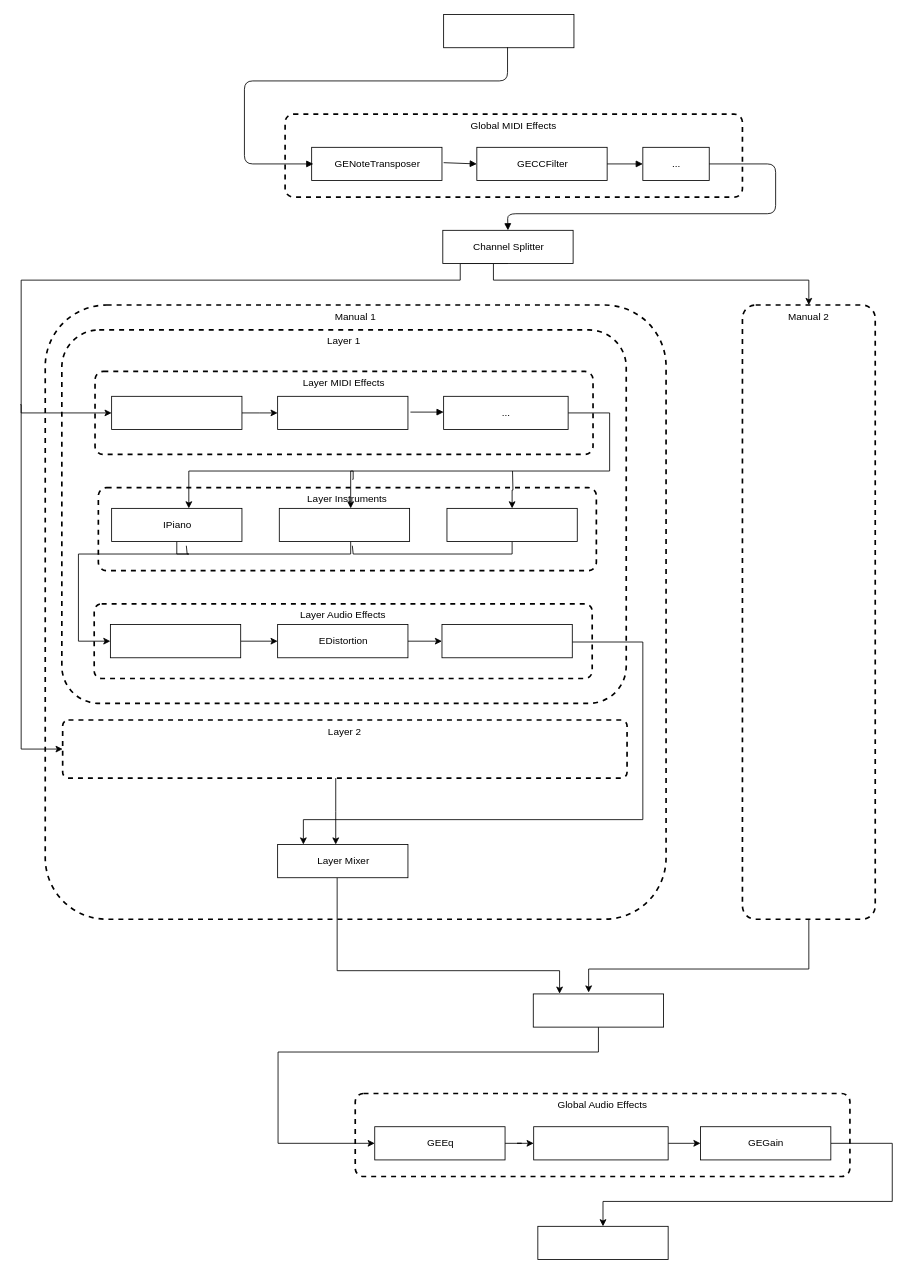
The diagram is 914 pixels wide and 1274 high, and some of its shapes have lost their labels. Each missing label, with the centre of its shape:
"Audio Output" goes at (x=602, y=1242).
"EDelay" goes at (x=506, y=641).
"EGain" goes at (x=175, y=641).
"ENoteTransposer" goes at (x=176, y=412).
"EVelocityScaler" goes at (x=342, y=412).
"GECompressor" goes at (x=600, y=1143).
"IOrgan" goes at (x=511, y=525).
"ISynth" goes at (x=344, y=525).
"Manual mixer" goes at (x=598, y=1010).
"MIDI Input" goes at (x=508, y=31).
